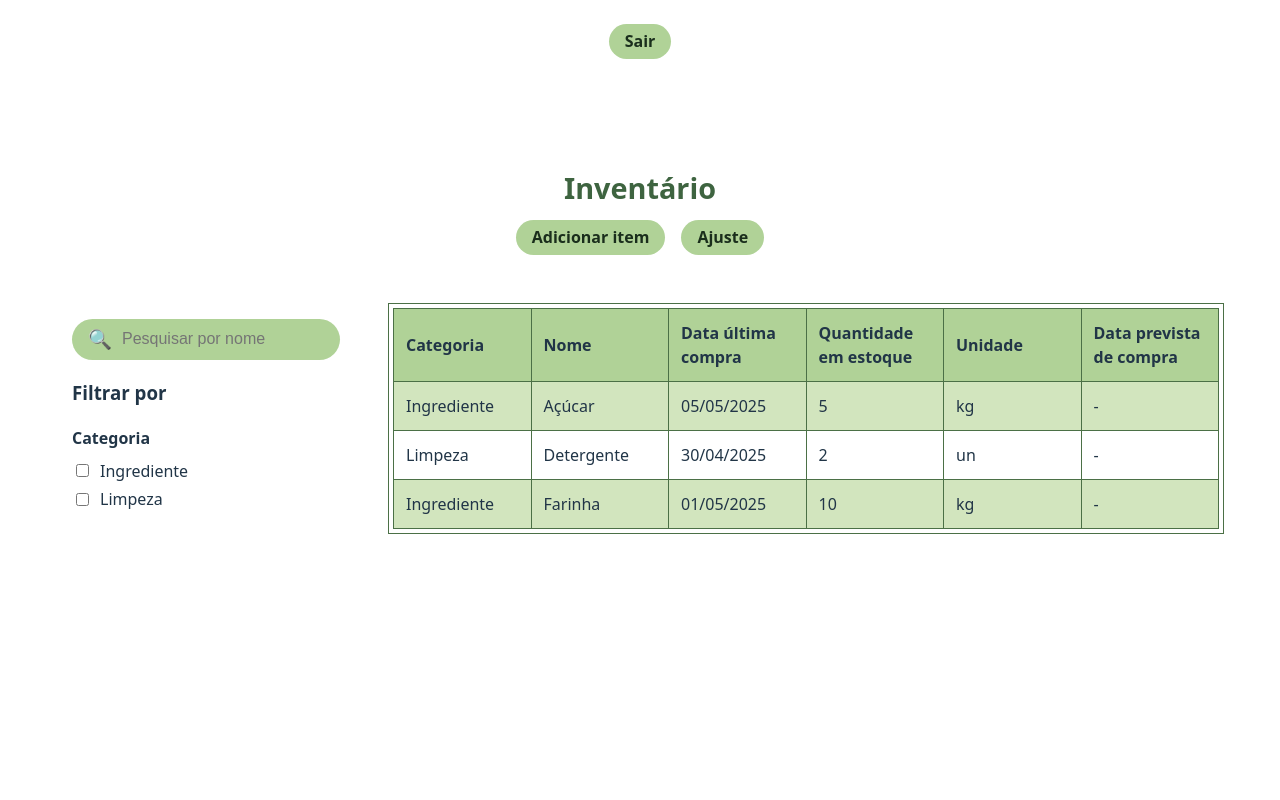
Test: Inventory Component › ativa modo ajuste e mostra botões editar e apagar
Click the button "Ajuste".
click(723, 237)  # box [681, 220, 764, 254]
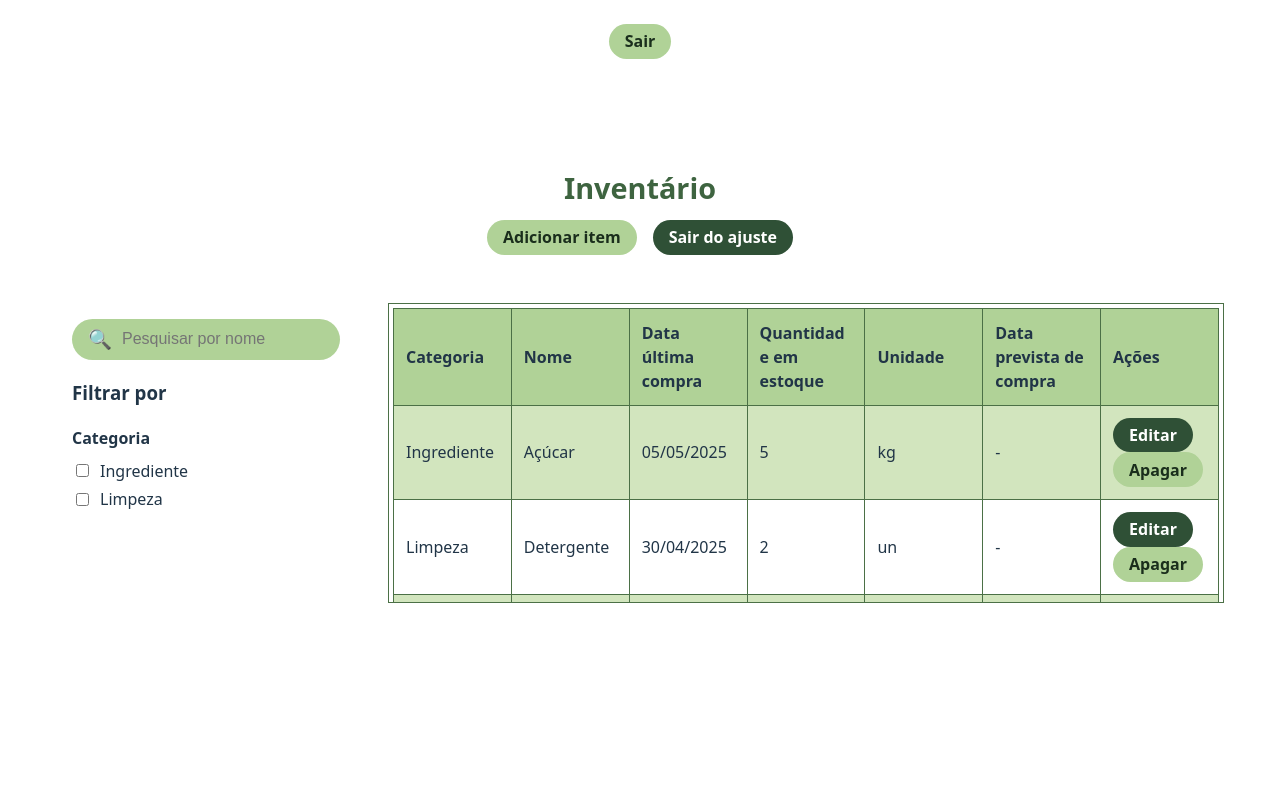
expect the button "Sair do ajuste" is shown: met, box [653, 220, 793, 254]
expect the button "Editar" in the row of "Açúcar" is shown: met, box [1113, 418, 1193, 452]
expect the button "Apagar" in the row of "Açúcar" is shown: met, box [1113, 452, 1203, 487]
